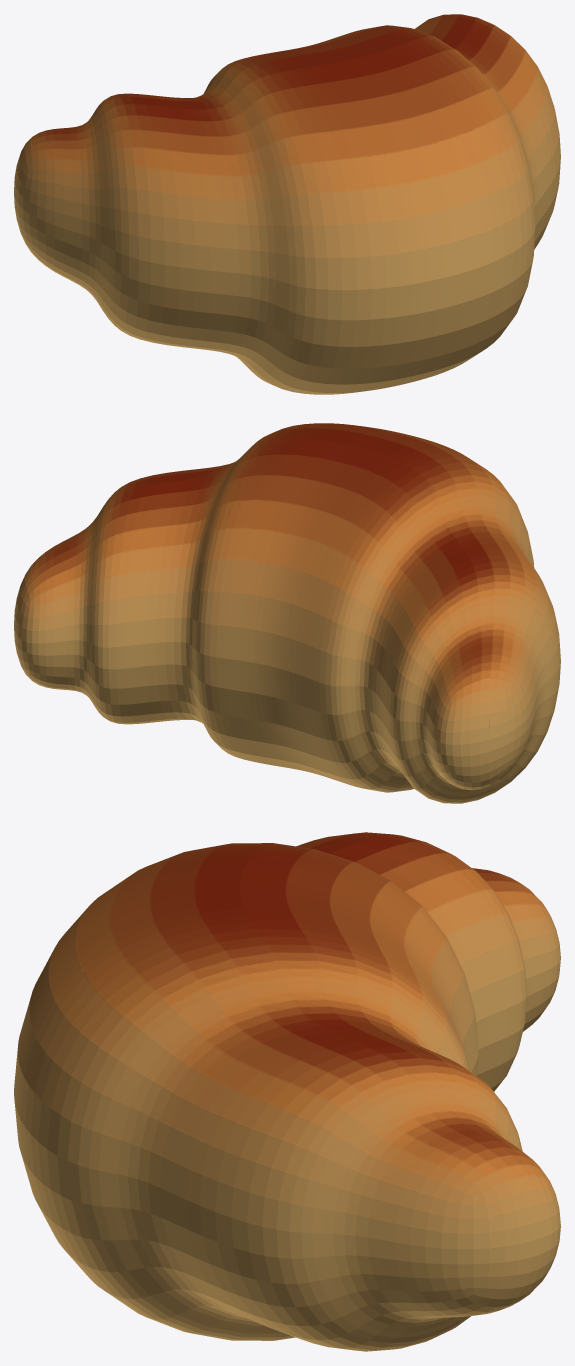
The model's file is croissant_updated texture.fbx.
3 views of the same model, one above another, from view 1: azimuth 30°, elevation 25°; view 2: azimuth 150°, elevation 25°; view 3: azimuth 270°, elevation 25° (orthographic). The views are drawn at different scales.
Visible parts, largest first — view 1: croissant; view 2: croissant; view 3: croissant.
Boxes of the visible parts, x1,y1,x2,y2 form: croissant: (14,14,560,394); croissant: (14,423,560,803); croissant: (14,832,560,1351).
Size of the model in its own units: 473 by 287 by 347.
Materials: 1 (1 with a texture image).
